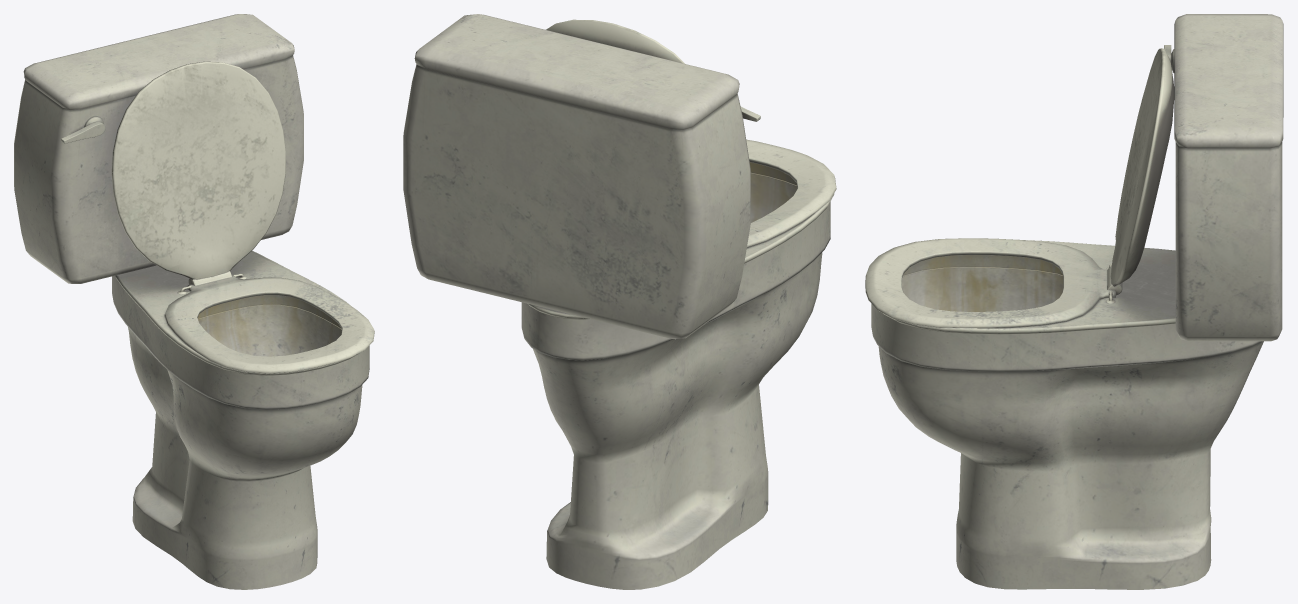
File: game_ready_-_dirty_old_toilet.glb
3 renders of one model, left to right at view 1: azimuth 30°, elevation 25°; view 2: azimuth 150°, elevation 25°; view 3: azimuth 270°, elevation 25°, orthographic. The views are drawn at different scales.
Visible parts, largest first — view 1: polySurface5; view 2: polySurface5; view 3: polySurface5.
Part boxes in pixels (left/top/right/bottom): polySurface5: left=14, top=14, right=374, bottom=589; polySurface5: left=403, top=14, right=836, bottom=589; polySurface5: left=865, top=14, right=1283, bottom=589.
Bounding box in the file's own units: 0.5811 × 0.9954 × 0.7545.
Materials: 1 (1 with a texture image).
